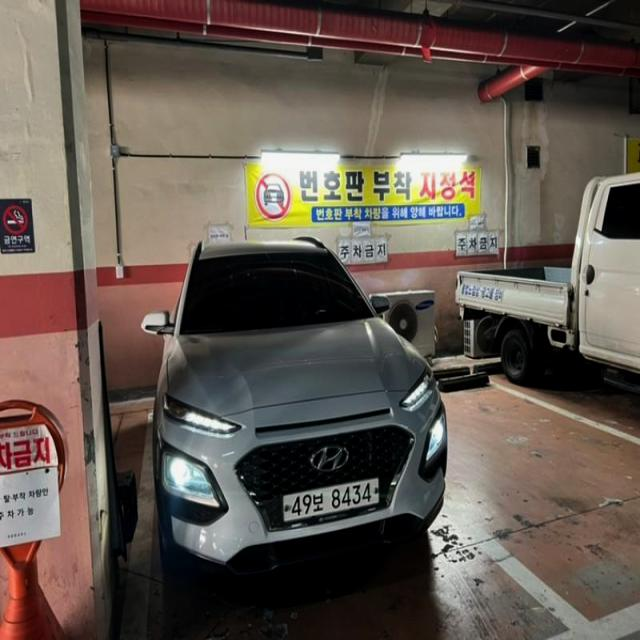car: (145, 231, 457, 592)
illegal_plate: (278, 475, 381, 528)
